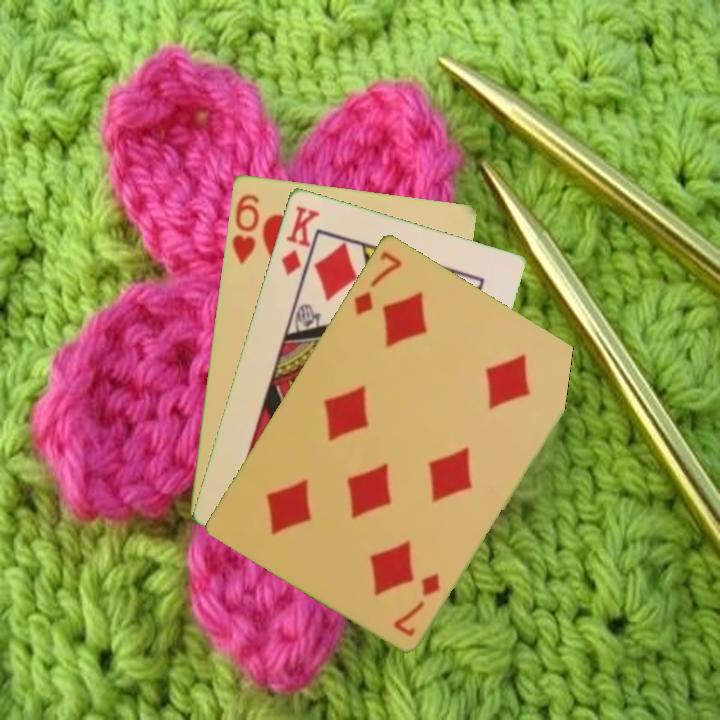6h: (228, 190, 262, 266)
7d: (350, 246, 405, 318), (390, 569, 443, 639)
Kd: (277, 201, 323, 278)
